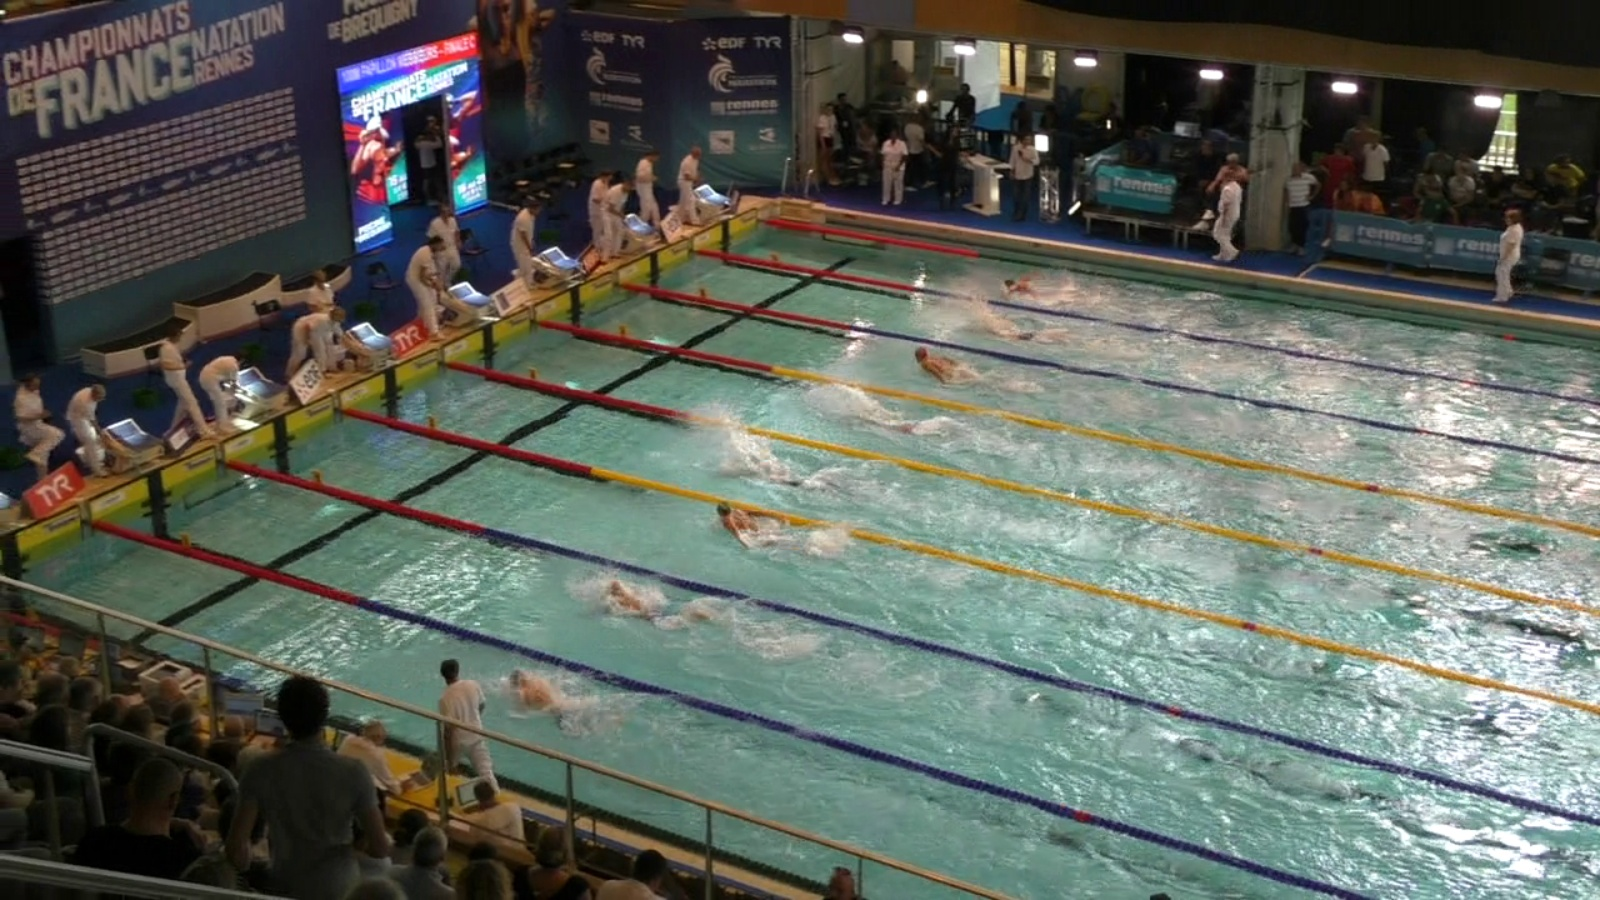swimmerw: (505, 668, 629, 746), (601, 575, 716, 638), (713, 499, 814, 563), (914, 345, 1027, 399), (742, 453, 852, 495), (809, 411, 936, 446), (978, 312, 1068, 348), (1003, 269, 1070, 308)
